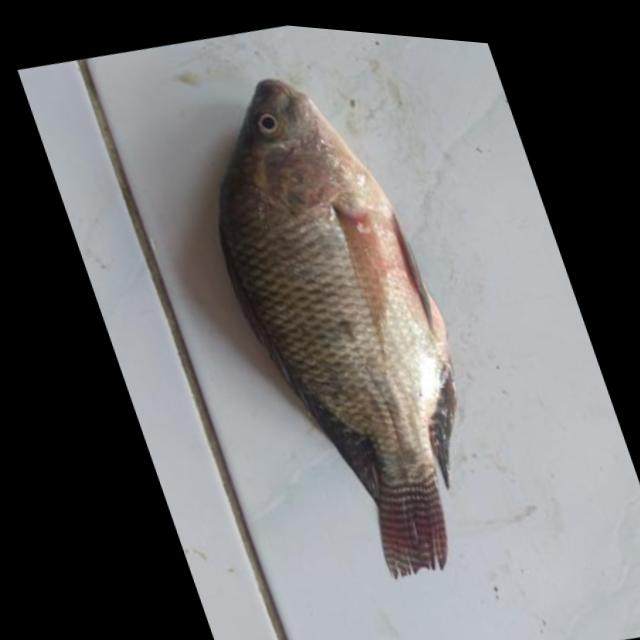Tilapia: (162, 46, 531, 606)
